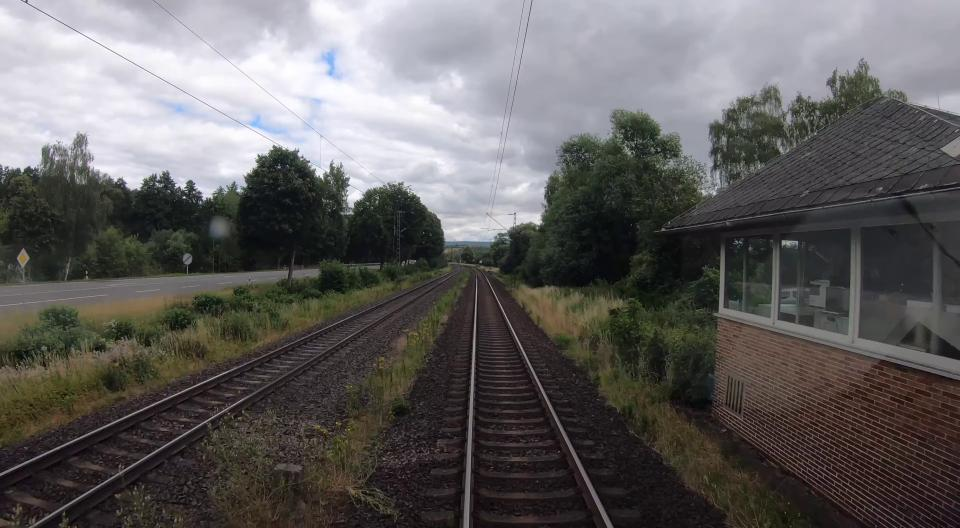Plant: (205, 280, 464, 528), (119, 489, 186, 528)
